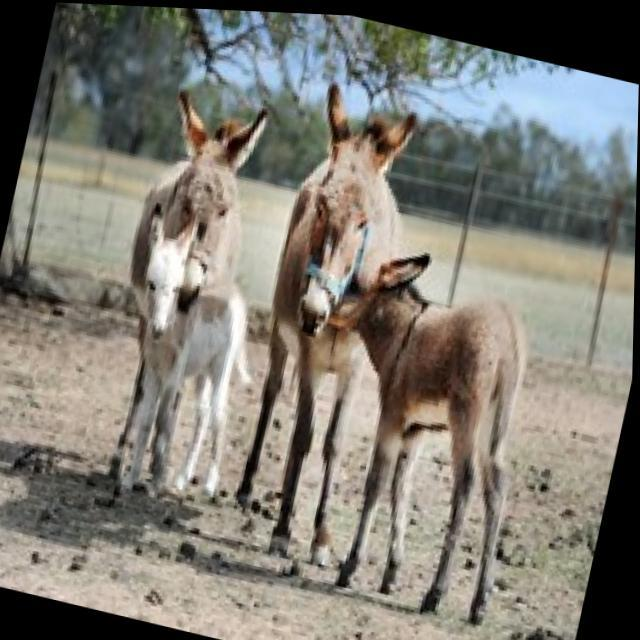Donkey: (207, 61, 457, 579), (274, 226, 562, 624), (43, 244, 277, 532), (100, 68, 276, 300)
